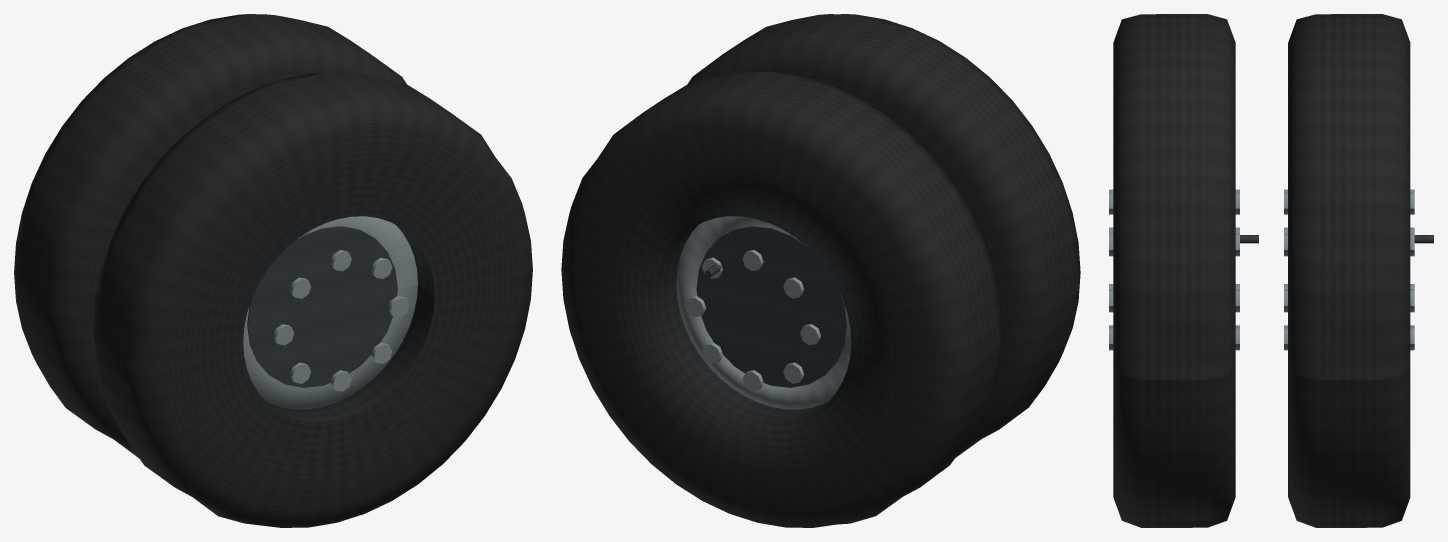
The model's file is PZ_IRONVALE_Trailer_DualWheel_PIVOTS.glb.
3 renders of one model, left to right at view 1: azimuth 30°, elevation 25°; view 2: azimuth 150°, elevation 25°; view 3: azimuth 270°, elevation 25°, orthographic. The views are drawn at different scales.
Parts seen in each view (by area): view 1: TRAILER_DUAL_TIRE_0_Rubber_Carcass, TRAILER_DUAL_TIRE_1_Rubber_Carcass, TRAILER_DUAL_TIRE_0_Hub_Disc, TRAILER_DUAL_TIRE_0_Rim_ChromeLip; view 2: TRAILER_DUAL_TIRE_1_Rubber_Carcass, TRAILER_DUAL_TIRE_0_Rubber_Carcass, TRAILER_DUAL_TIRE_1_Hub_Disc, TRAILER_DUAL_TIRE_1_Rim_ChromeLip; view 3: TRAILER_DUAL_TIRE_0_Rubber_Carcass, TRAILER_DUAL_TIRE_1_Rubber_Carcass.
Part boxes in pixels (x1,y1,x2,y2): TRAILER_DUAL_TIRE_0_Rubber_Carcass: (93,71,532,527); TRAILER_DUAL_TIRE_1_Rubber_Carcass: (14,14,406,457); TRAILER_DUAL_TIRE_0_Hub_Disc: (247,226,397,387); TRAILER_DUAL_TIRE_0_Rim_ChromeLip: (243,216,417,409); TRAILER_DUAL_TIRE_1_Rubber_Carcass: (561,72,1001,527); TRAILER_DUAL_TIRE_0_Rubber_Carcass: (687,14,1080,457); TRAILER_DUAL_TIRE_1_Hub_Disc: (696,226,847,387); TRAILER_DUAL_TIRE_1_Rim_ChromeLip: (676,216,851,409); TRAILER_DUAL_TIRE_0_Rubber_Carcass: (1113,14,1235,527); TRAILER_DUAL_TIRE_1_Rubber_Carcass: (1288,14,1410,527).
Bounding box in the file's own units: 1.04 × 1.03 × 0.6505.
4 materials, 4 textured.
